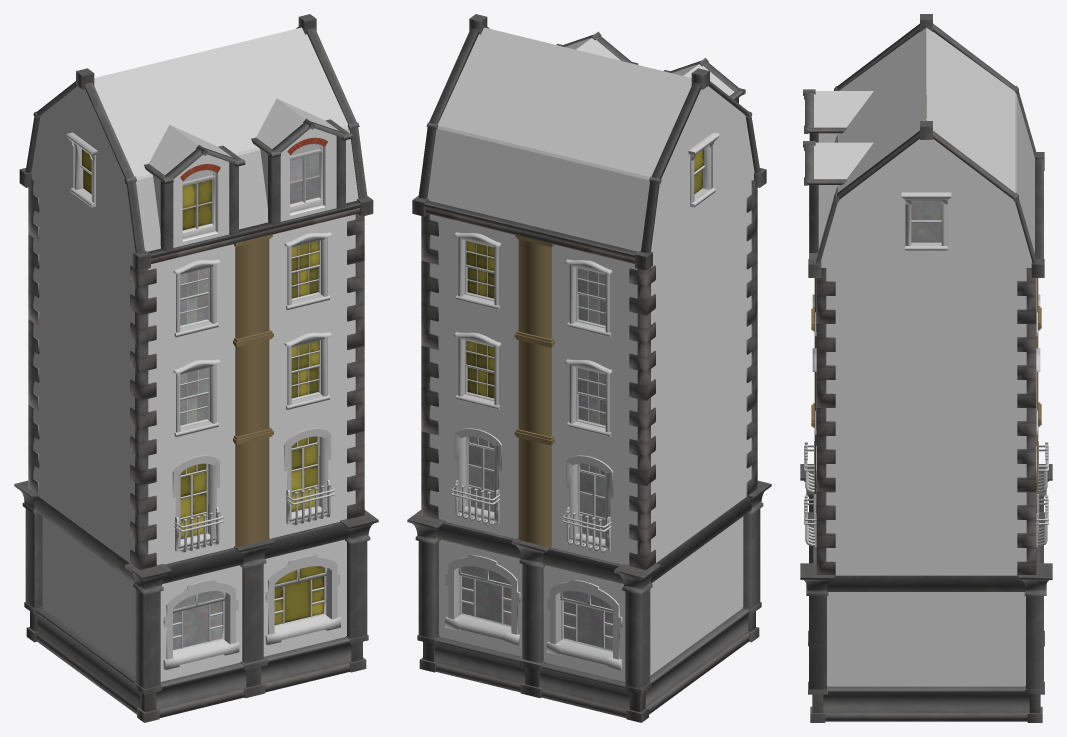
The model's file is Building_12.fbx.
3 views of the same model, side by side, from view 1: azimuth 30°, elevation 25°; view 2: azimuth 150°, elevation 25°; view 3: azimuth 270°, elevation 25° (orthographic).
Visible parts, largest first — view 1: Wall_01.010, Wall_04.007, Roof_01.016, Trim_01, Trim_02, Trim_04.007, Wall_02, Roof_02.007; view 2: Wall_02, Wall_04.007, Roof_02.007, Trim_04.007, Trim_03.005, Roof_01.016, Trim_01, Wall_01.010; view 3: Wall_03.011, Roof_01.016, Roof_02.007, Wall_01.010, Wall_02, Trim_02, Trim_03.005.
Part boxes in pixels (x1=…): Wall_01.010: x1=125, y1=214, x2=378, y2=722; Wall_04.007: x1=31, y1=86, x2=140, y2=714; Roof_01.016: x1=76, y1=14, x2=373, y2=270; Trim_01: x1=130, y1=265, x2=156, y2=569; Trim_02: x1=347, y1=214, x2=364, y2=519; Trim_04.007: x1=28, y1=179, x2=39, y2=496; Wall_02: x1=14, y1=480, x2=43, y2=642; Roof_02.007: x1=19, y1=27, x2=298, y2=187; Wall_02: x1=407, y1=214, x2=660, y2=722; Wall_04.007: x1=645, y1=86, x2=754, y2=714; Roof_02.007: x1=412, y1=27, x2=701, y2=270; Trim_04.007: x1=629, y1=265, x2=655, y2=569; Trim_03.005: x1=421, y1=214, x2=438, y2=519; Roof_01.016: x1=469, y1=14, x2=766, y2=187; Trim_01: x1=746, y1=179, x2=757, y2=496; Wall_01.010: x1=742, y1=480, x2=771, y2=642; Wall_03.011: x1=821, y1=139, x2=1031, y2=721; Roof_01.016: x1=803, y1=14, x2=932, y2=277; Roof_02.007: x1=926, y1=23, x2=1044, y2=277; Wall_01.010: x1=800, y1=278, x2=834, y2=722; Wall_02: x1=1018, y1=278, x2=1052, y2=722; Trim_02: x1=816, y1=268, x2=835, y2=575; Trim_03.005: x1=1017, y1=268, x2=1036, y2=575.
Size of what is drawn, in the model's own units: 7.44 by 18.28 by 6.97.
